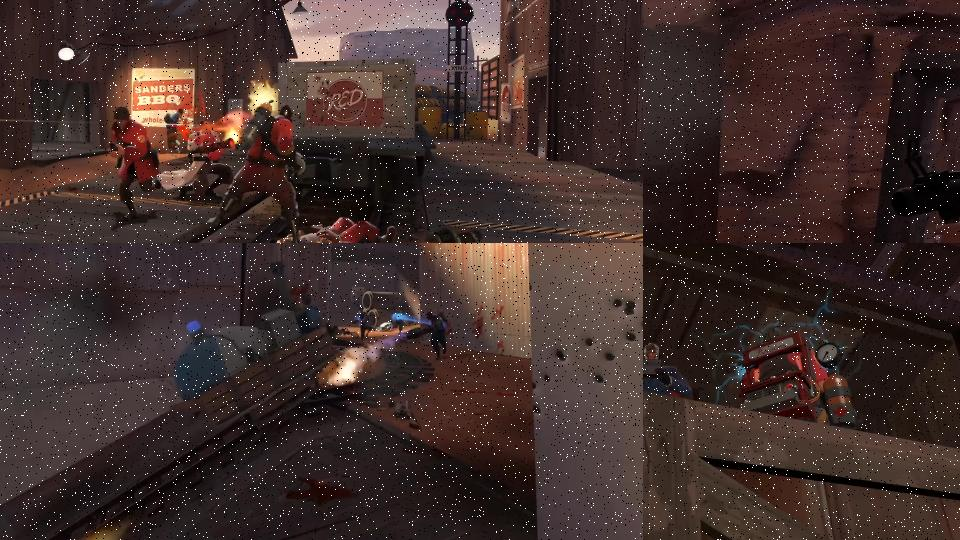Enemy: (206, 98, 307, 243), (106, 106, 163, 223), (156, 119, 236, 202), (272, 216, 396, 243), (408, 306, 460, 361), (643, 342, 693, 399), (350, 305, 376, 346), (164, 108, 187, 154), (389, 305, 406, 338)
